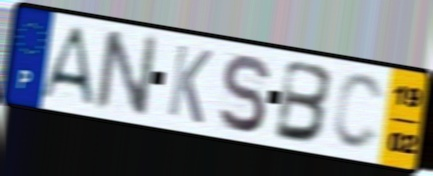A: (36, 23, 98, 110)
B: (272, 56, 337, 146)
C: (330, 71, 387, 154)
K: (164, 40, 215, 127)
N: (93, 27, 162, 120)
S: (216, 51, 272, 135)
